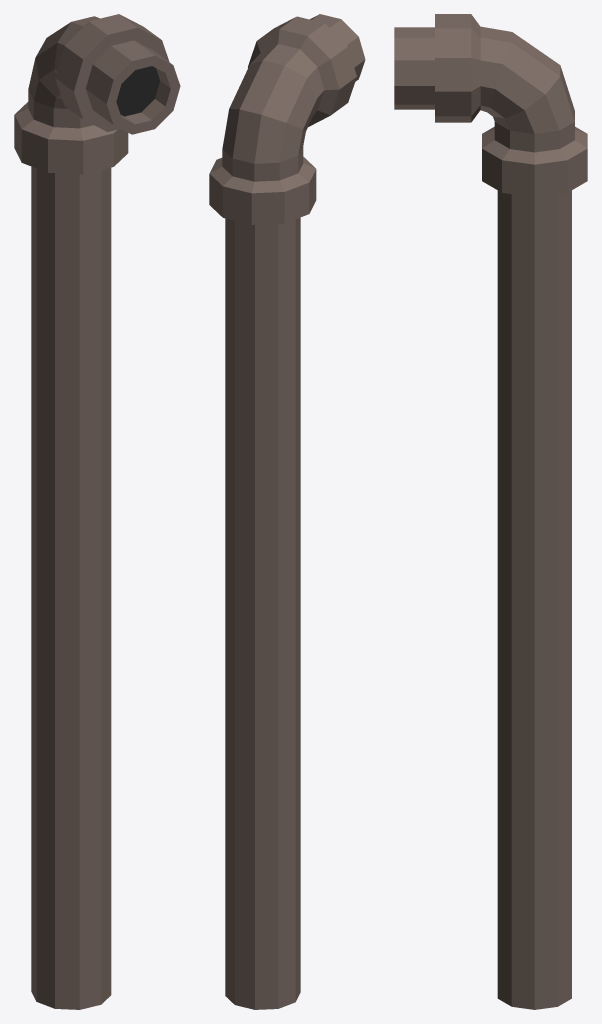
File: Pipe_ML.glb
The picture shows the model from 3 angles, left to right: view 1: azimuth 30°, elevation 25°; view 2: azimuth 150°, elevation 25°; view 3: azimuth 270°, elevation 25°; orthographic projection. The views are drawn at different scales.
Visible parts, largest first — view 1: pipe (1); view 2: pipe (1); view 3: pipe (1).
Boxes of the visible parts, x1,y1,x2,y2 form: pipe (1): (14,14,180,1009); pipe (1): (209,14,365,1009); pipe (1): (394,14,587,1009).
Size of the model in its own units: 0.0995 by 0.9593 by 0.173.
Materials: 1 (1 with a texture image).
